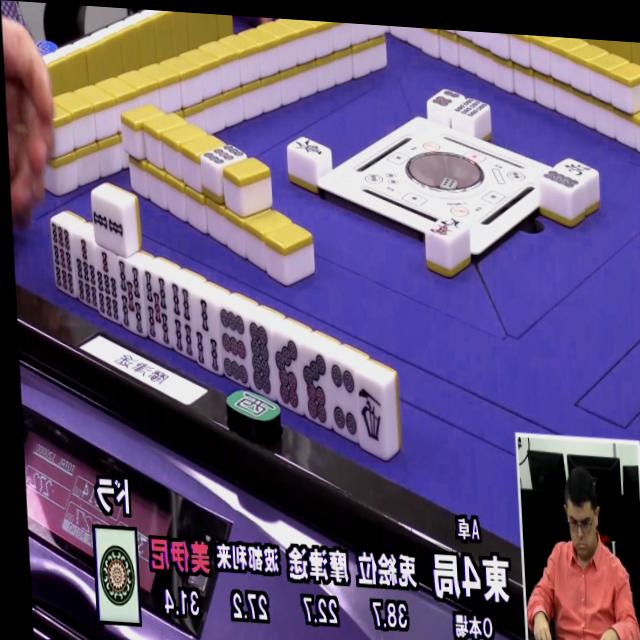s2: (92, 195, 126, 245)
s3: (190, 295, 221, 372)
s4: (168, 281, 197, 360)
s5: (141, 272, 173, 350), (115, 260, 144, 336)
s7: (94, 248, 122, 324), (72, 236, 98, 310)
s9: (49, 221, 76, 298)
t1: (96, 530, 138, 622)
t4: (327, 361, 360, 443)
t7: (297, 347, 332, 427), (271, 334, 305, 413)
t8: (247, 321, 278, 399)
t9: (216, 307, 250, 389), (203, 141, 245, 173)
west: (356, 378, 388, 455)
